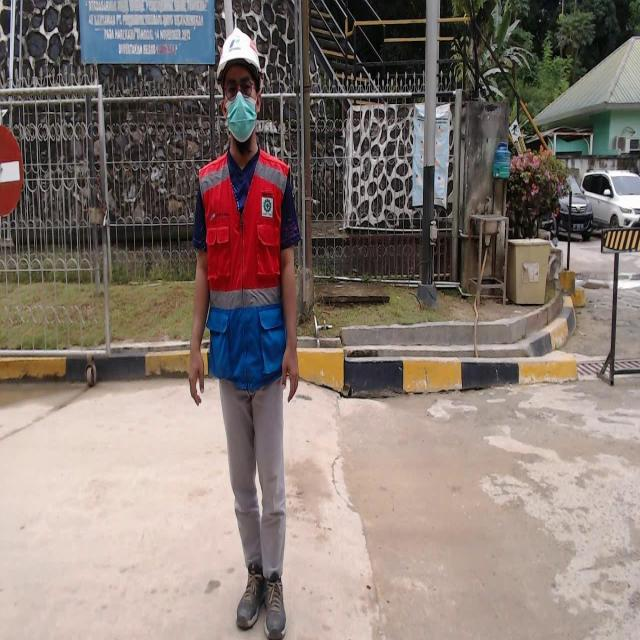helmet: (213, 27, 267, 81)
